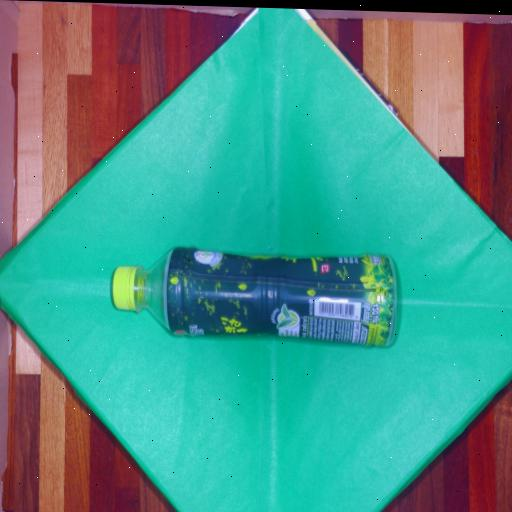bottle: (112, 248, 394, 345)
